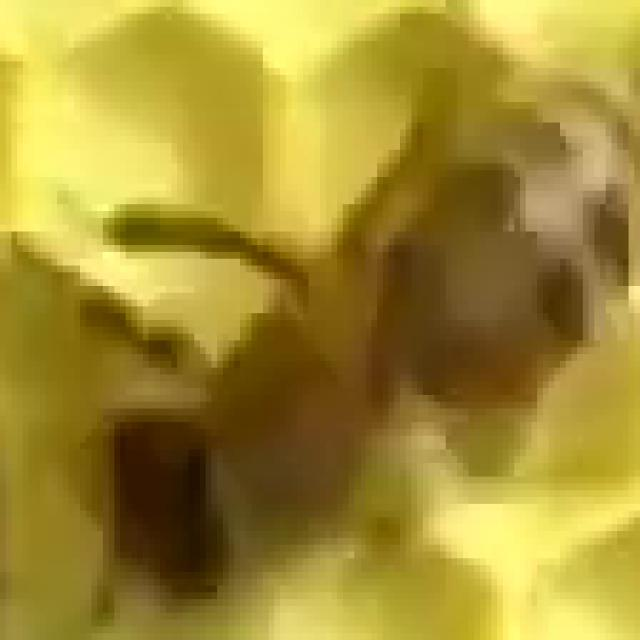honeybee: (74, 41, 640, 614)
